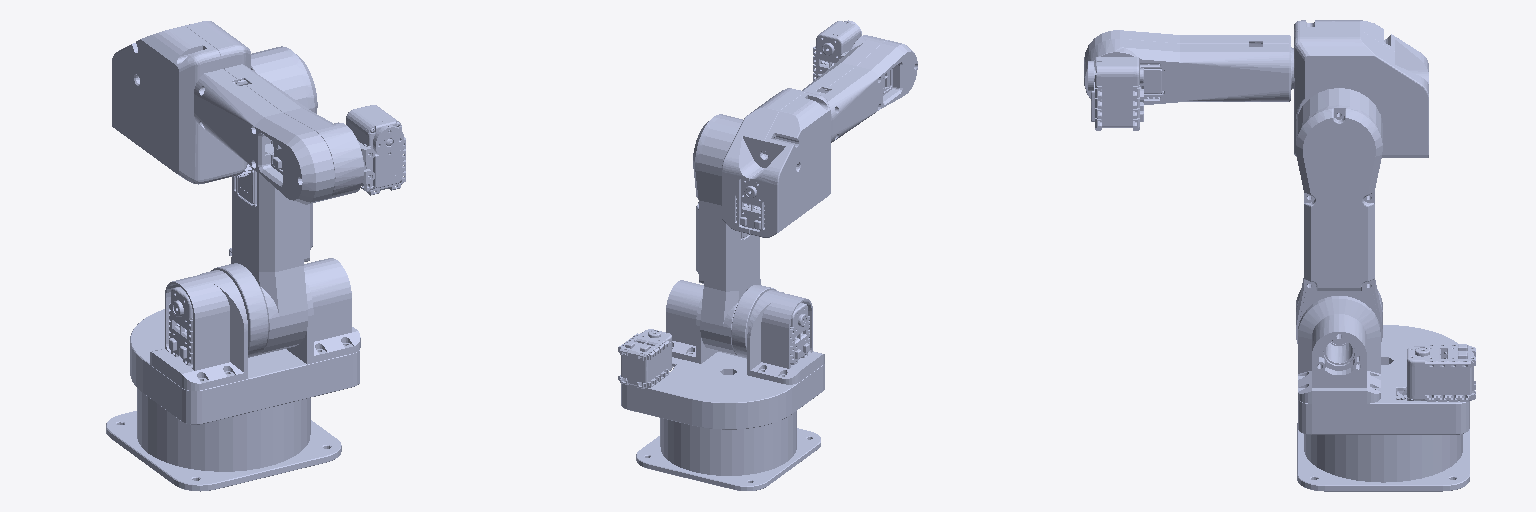
robot.urdf — 4825ROBO_urdf:
<?xml version="1.0"?>
<!-- This URDF was automatically created by SolidWorks to URDF Exporter! Originally created by [author] ([email redacted]) 
     Commit Version: 1.6.0-4-g7f85cfe  Build Version: 1.6.7995.38578
     For more information, please see http://wiki.ros.org/sw_urdf_exporter -->
<robot
  name="4825ROBO_urdf">
  <link
    name="base_link">
    <inertial>
      <origin
        xyz="-1.4336E-17 2.3799E-17 0.028332"
        rpy="0 0 0" />
      <mass
        value="0.11473" />
      <inertia
        ixx="0.00017044"
        ixy="5.6954E-20"
        ixz="-3.326E-20"
        iyy="0.00017044"
        iyz="7.5202E-21"
        izz="0.00030848" />
    </inertial>
    <visual>
      <origin
        xyz="0 0 0"
        rpy="0 0 0" />
      <geometry>
        <mesh
          filename="package://marvin/meshes/base_link.STL" />
      </geometry>
      <material
        name="">
        <color
          rgba="0.79216 0.81961 0.93333 1" />
      </material>
    </visual>
    <collision>
      <origin
        xyz="0 0 0"
        rpy="0 0 0" />
      <geometry>
        <mesh
          filename="package://marvin/meshes/base_link.STL" />
      </geometry>
    </collision>
  </link>
  <link
    name="Link_1">
    <inertial>
      <origin
        xyz="0.014137 -0.013286 0.014927"
        rpy="0 0 0" />
      <mass
        value="0.29296" />
      <inertia
        ixx="0.00018813"
        ixy="-3.5366E-06"
        ixz="1.3871E-06"
        iyy="0.00019011"
        iyz="8.9891E-07"
        izz="0.00027081" />
    </inertial>
    <visual>
      <origin
        xyz="0 0 0"
        rpy="0 0 0" />
      <geometry>
        <mesh
          filename="package://marvin/meshes/Link_1.STL" />
      </geometry>
      <material
        name="">
        <color
          rgba="0.79216 0.81961 0.93333 1" />
      </material>
    </visual>
    <collision>
      <origin
        xyz="0 0 0"
        rpy="0 0 0" />
      <geometry>
        <mesh
          filename="package://marvin/meshes/Link_1.STL" />
      </geometry>
    </collision>
  </link>
  <joint
    name="Joint_1"
    type="revolute">
    <origin
      xyz="0 0 0.075"
      rpy="0 0 0" />
    <parent
      link="base_link" />
    <child
      link="Link_1" />
    <axis
      xyz="0 0 -1" />
    <limit
      lower="-1.57"
      upper="1.57"
      effort="4.5"
      velocity="6" />
  </joint>
  <link
    name="Link_2">
    <inertial>
      <origin
        xyz="-0.01529 9.2111E-06 0.074412"
        rpy="0 0 0" />
      <mass
        value="0.14158" />
      <inertia
        ixx="0.00038855"
        ixy="1.4982E-09"
        ixz="-2.863E-06"
        iyy="0.00036317"
        iyz="1.0303E-08"
        izz="4.5171E-05" />
    </inertial>
    <visual>
      <origin
        xyz="0 0 0"
        rpy="0 0 0" />
      <geometry>
        <mesh
          filename="package://marvin/meshes/Link_2.STL" />
      </geometry>
      <material
        name="">
        <color
          rgba="0.79216 0.81961 0.93333 1" />
      </material>
    </visual>
    <collision>
      <origin
        xyz="0 0 0"
        rpy="0 0 0" />
      <geometry>
        <mesh
          filename="package://marvin/meshes/Link_2.STL" />
      </geometry>
    </collision>
  </link>
  <joint
    name="Joint_2"
    type="revolute">
    <origin
      xyz="0.028 -0.032 0.035"
      rpy="0 0 0" />
    <parent
      link="Link_1" />
    <child
      link="Link_2" />
    <axis
      xyz="1 0 0" />
    <limit
      lower="-1.57"
      upper="1.57"
      effort="3.6"
      velocity="6" />
  </joint>
  <link
    name="Link_3">
    <inertial>
      <origin
        xyz="-0.032626 0.024536 0.005911"
        rpy="0 0 0" />
      <mass
        value="0.12591" />
      <inertia
        ixx="0.00012485"
        ixy="6.4467E-07"
        ixz="1.0192E-07"
        iyy="7.075E-05"
        iyz="-3.0888E-06"
        izz="6.9755E-05" />
    </inertial>
    <visual>
      <origin
        xyz="0 0 0"
        rpy="0 0 0" />
      <geometry>
        <mesh
          filename="package://marvin/meshes/Link_3.STL" />
      </geometry>
      <material
        name="">
        <color
          rgba="0.79216 0.81961 0.93333 1" />
      </material>
    </visual>
    <collision>
      <origin
        xyz="0 0 0"
        rpy="0 0 0" />
      <geometry>
        <mesh
          filename="package://marvin/meshes/Link_3.STL" />
      </geometry>
    </collision>
  </link>
  <joint
    name="Joint_3"
    type="revolute">
    <origin
      xyz="-0.032 0 0.15"
      rpy="0 0 0" />
    <parent
      link="Link_2" />
    <child
      link="Link_3" />
    <axis
      xyz="-1 0 0" />
    <limit
      lower="-1.57"
      upper="1.57"
      effort="3.6"
      velocity="6" />
  </joint>
  <link
    name="Link_4">
    <inertial>
      <origin
        xyz="0.0016172 -0.11918 -4.4632E-05"
        rpy="0 0 0" />
      <mass
        value="0.11509" />
      <inertia
        ixx="0.00027374"
        ixy="1.0274E-06"
        ixz="9.1368E-09"
        iyy="2.3485E-05"
        iyz="7.8574E-08"
        izz="0.00026579" />
    </inertial>
    <visual>
      <origin
        xyz="0 0 0"
        rpy="0 0 0" />
      <geometry>
        <mesh
          filename="package://marvin/meshes/Link_4.STL" />
      </geometry>
      <material
        name="">
        <color
          rgba="0.79216 0.81961 0.93333 1" />
      </material>
    </visual>
    <collision>
      <origin
        xyz="0 0 0"
        rpy="0 0 0" />
      <geometry>
        <mesh
          filename="package://marvin/meshes/Link_4.STL" />
      </geometry>
    </collision>
  </link>
  <joint
    name="Joint_4"
    type="revolute">
    <origin
      xyz="-0.0355 0.02 0.029"
      rpy="0 0 0" />
    <parent
      link="Link_3" />
    <child
      link="Link_4" />
    <axis
      xyz="0 -1 0" />
    <limit
      lower="-3.142"
      upper="3.142"
      effort="1.5"
      velocity="6" />
  </joint>
  <link
    name="Link_5">
    <inertial>
      <origin
        xyz="0.017814 -0.00093576 0.0016277"
        rpy="0 0 0" />
      <mass
        value="0.045999" />
      <inertia
        ixx="1.2178E-05"
        ixy="-1.4986E-09"
        ixz="-1.0441E-08"
        iyy="1.0214E-05"
        iyz="-1.91E-07"
        izz="6.787E-06" />
    </inertial>
    <visual>
      <origin
        xyz="0 0 0"
        rpy="0 0 0" />
      <geometry>
        <mesh
          filename="package://marvin/meshes/Link_5.STL" />
      </geometry>
      <material
        name="">
        <color
          rgba="0.79216 0.81961 0.93333 1" />
      </material>
    </visual>
    <collision>
      <origin
        xyz="0 0 0"
        rpy="0 0 0" />
      <geometry>
        <mesh
          filename="package://marvin/meshes/Link_5.STL" />
      </geometry>
    </collision>
  </link>
  <joint
    name="Joint_5"
    type="revolute">
    <origin
      xyz="0.0245 -0.18 0"
      rpy="0 0 0" />
    <parent
      link="Link_4" />
    <child
      link="Link_5" />
    <axis
      xyz="1 0 0" />
    <limit
      lower="-3.142"
      upper="3.142"
      effort="1.5"
      velocity="6" />
  </joint>
</robot>

--- Render facts (derived) ---
Views: 3 orthographic renders of the robot side by side, from view 1: azimuth 30°, elevation 25°; view 2: azimuth 150°, elevation 25°; view 3: azimuth 270°, elevation 25°.
Robot: 4825ROBO_urdf — 6 links, 5 joints (5 revolute); root link base_link; default pose: all joints at 0.
Visible links, largest first — view 1: Link_1, Link_2, Link_3, Link_4, base_link, Link_5; view 2: Link_1, Link_3, Link_2, base_link, Link_4, Link_5; view 3: Link_1, Link_2, Link_3, Link_4, base_link, Link_5.
Link boxes in pixels (x1,y1,x2,y2): Link_1: [130, 248, 360, 424]; Link_2: [211, 46, 317, 357]; Link_3: [112, 21, 250, 184]; Link_4: [194, 64, 363, 204]; base_link: [106, 388, 341, 491]; Link_5: [346, 105, 405, 195]; Link_1: [618, 280, 824, 429]; Link_3: [722, 88, 830, 237]; Link_2: [693, 114, 776, 358]; base_link: [636, 411, 820, 490]; Link_4: [802, 35, 917, 142]; Link_5: [813, 20, 861, 80]; Link_1: [1298, 296, 1475, 434]; Link_2: [1296, 88, 1382, 345]; Link_3: [1294, 20, 1428, 157]; Link_4: [1084, 30, 1294, 104]; base_link: [1297, 390, 1469, 491]; Link_5: [1088, 57, 1143, 130].
Bounding box of the posed robot: 0.14 × 0.2825 × 0.32 m (x, y, z).
6 mesh visuals loaded from 6 distinct referenced files (6 binary STL).
